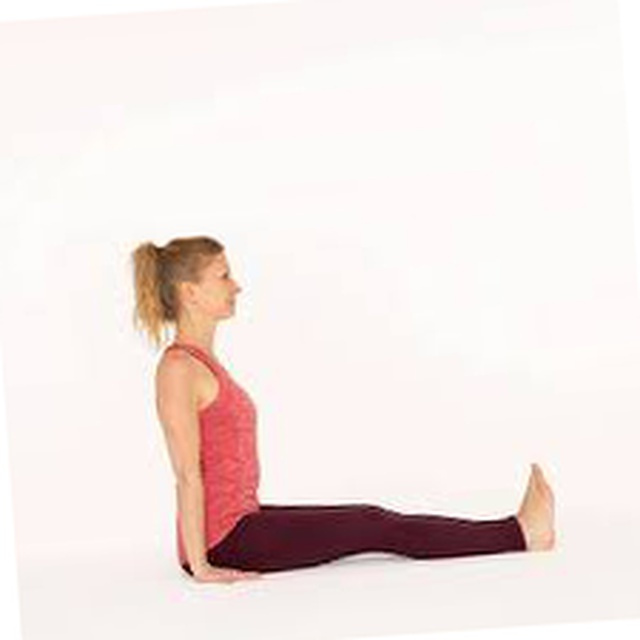Staff_Pose: (131, 236, 559, 584)
